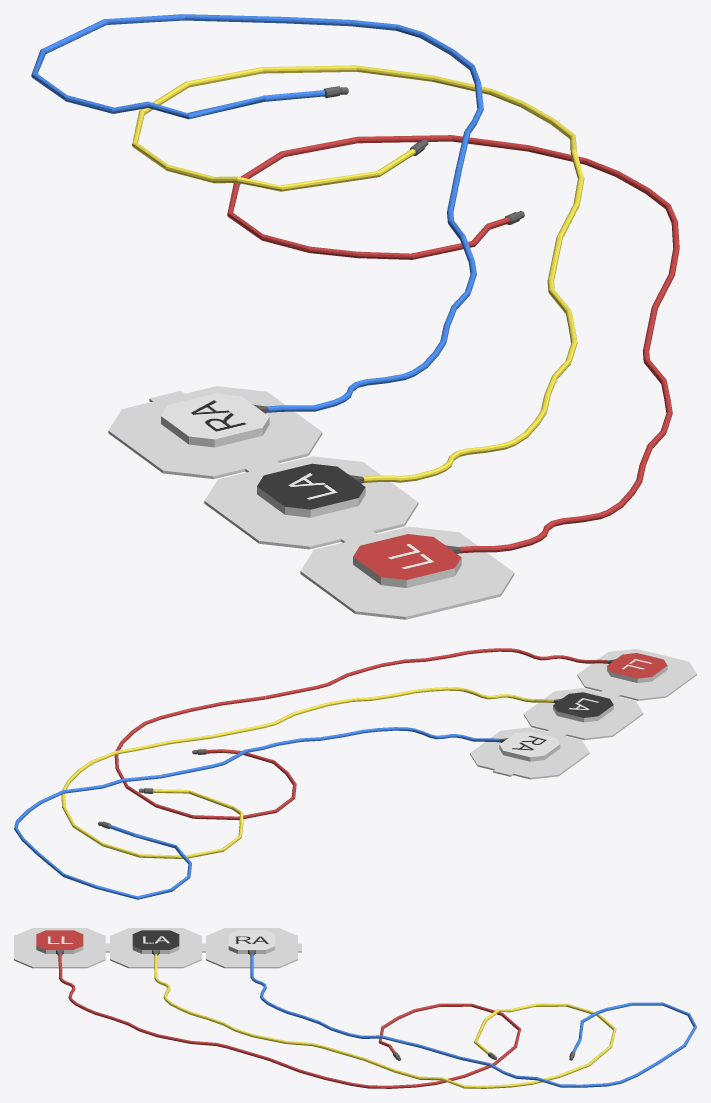
The model's file is ekg.fbx.
3 views of the same model, one above another, from view 1: azimuth 30°, elevation 25°; view 2: azimuth 150°, elevation 25°; view 3: azimuth 270°, elevation 25° (orthographic). The views are drawn at different scales.
Visible parts, largest first — view 1: Cube; view 2: Cube; view 3: Cube.
Boxes of the visible parts, <box> form: Cube: <box>31,14,679,619</box>; Cube: <box>14,648,696,899</box>; Cube: <box>14,928,696,1088</box>.
Size of the model in its own units: 532 by 17.68 by 963.
1 material, 1 textured.
